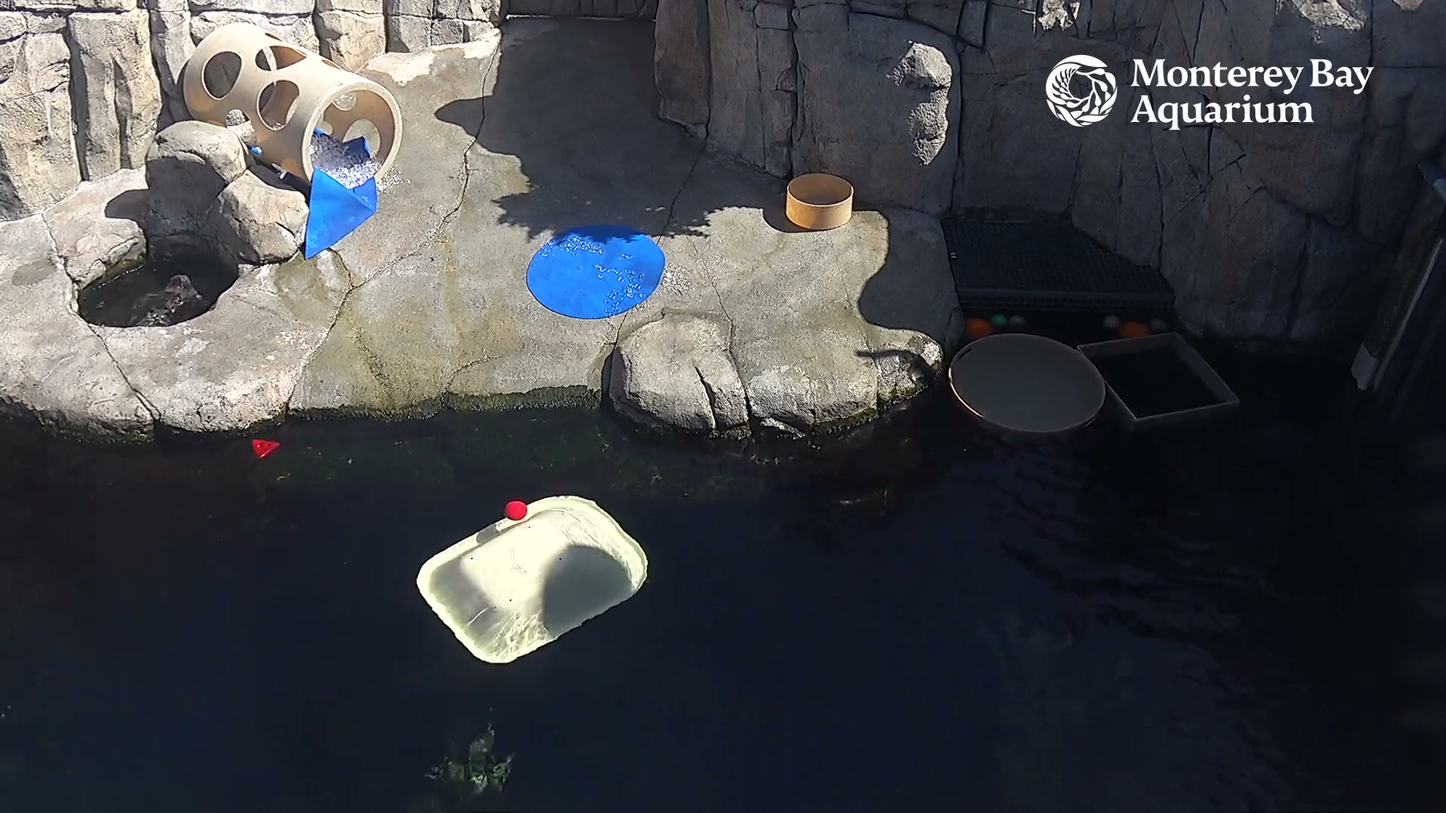Southern Sea Otter: (118, 269, 206, 335)
